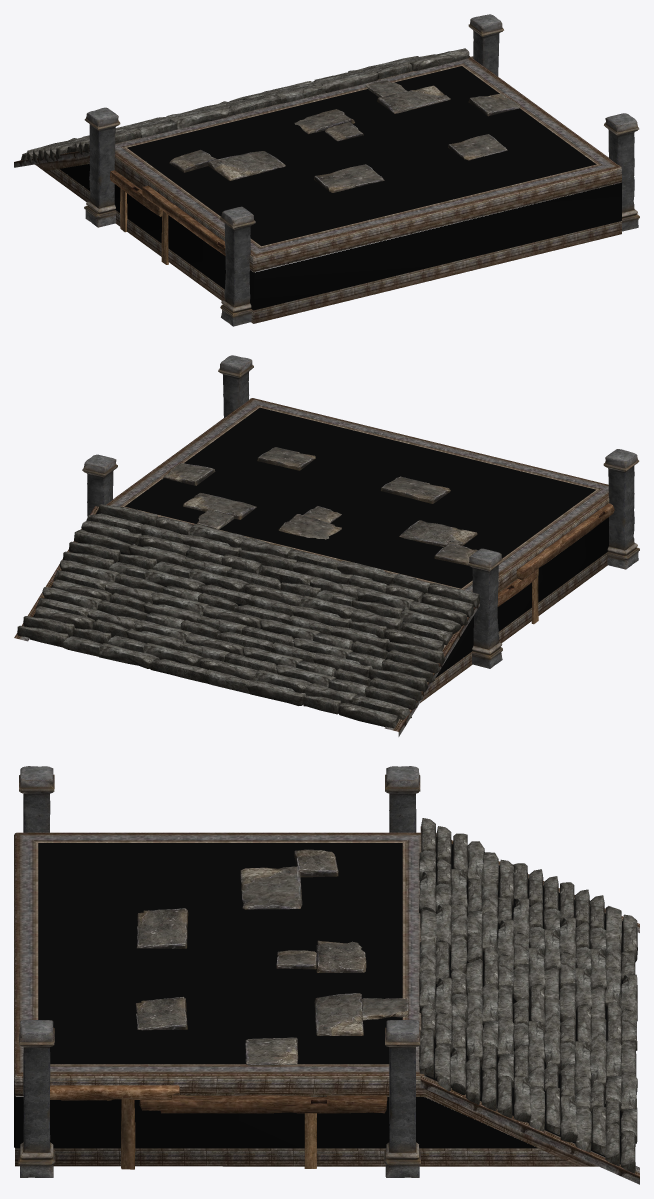
The model's file is o_mdl_env_dungeonRuinDarkPlatformA-transformed.glb.
3 renders of one model, top to bottom at view 1: azimuth 30°, elevation 25°; view 2: azimuth 150°, elevation 25°; view 3: azimuth 270°, elevation 25°, orthographic. The views are drawn at different scales.
Visible parts, largest first — view 1: default; view 2: default; view 3: default.
Part boxes in pixels (x1,y1,x2,y2): default: [14, 14, 639, 326]; default: [14, 355, 639, 736]; default: [14, 766, 639, 1184].
Bounding box in the file's own units: 16.8 × 4.65 × 16.51.
Materials: 6 (6 with a texture image).
